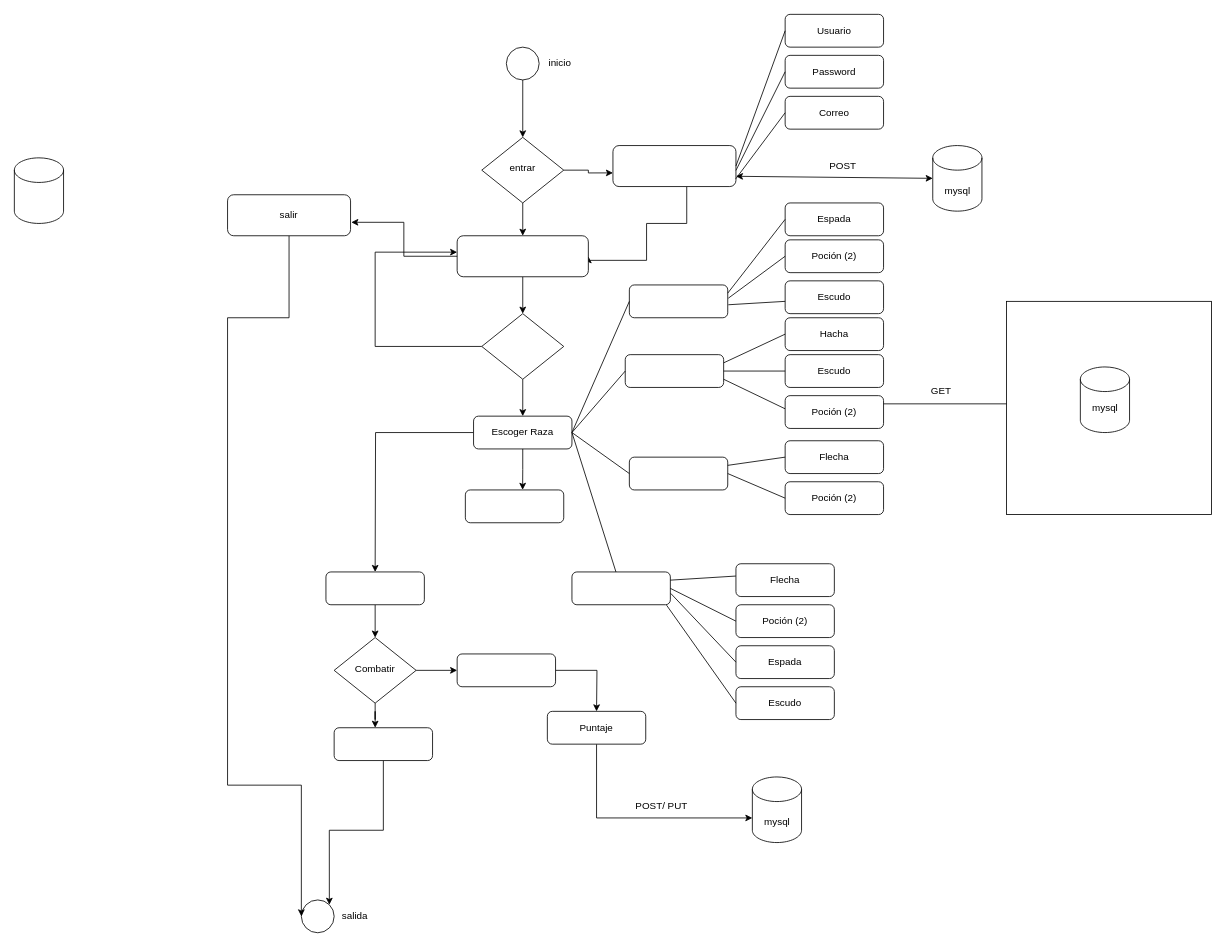
The diagram is 1226 pixels wide and 947 high, and some of its shapes have lost their labels. The shapes that lost their labels are listed below. From the top down, each one's box as (x1, y1, x2, y2) in pixels, then its label:
(612, 145, 736, 187): Registrar
(456, 235, 588, 277): iniciar sesión
(629, 284, 728, 318): Humano
(481, 313, 564, 379): validar
(624, 354, 724, 387): Enano
(629, 456, 728, 490): Orco
(465, 489, 564, 523): Enemigo (computer)
(325, 571, 424, 605): COMBATE
(571, 571, 670, 605): Elfo
(456, 653, 556, 687): vivir
(333, 727, 433, 761): morir
